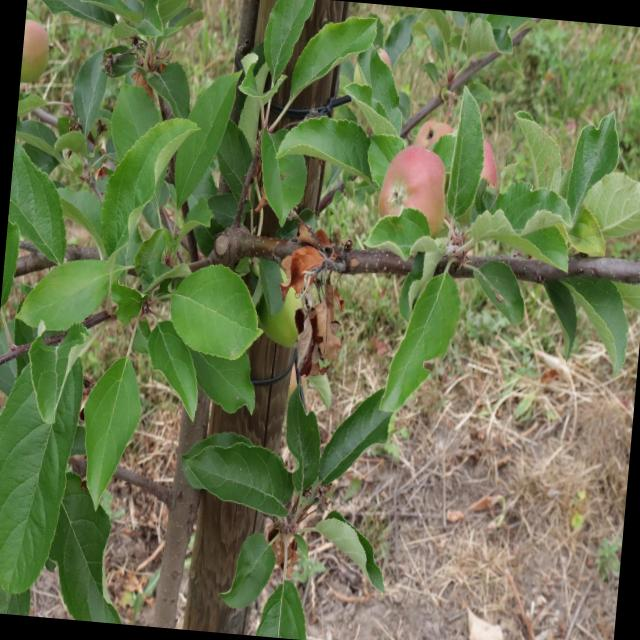-FireBlight-: (268, 222, 352, 375)
